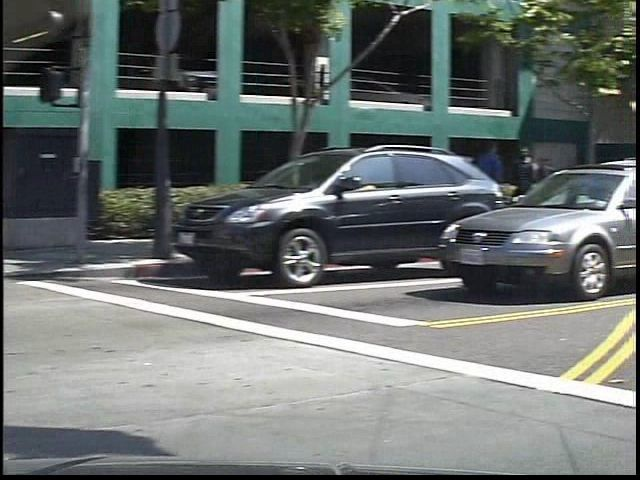person: (489, 140, 528, 240)
